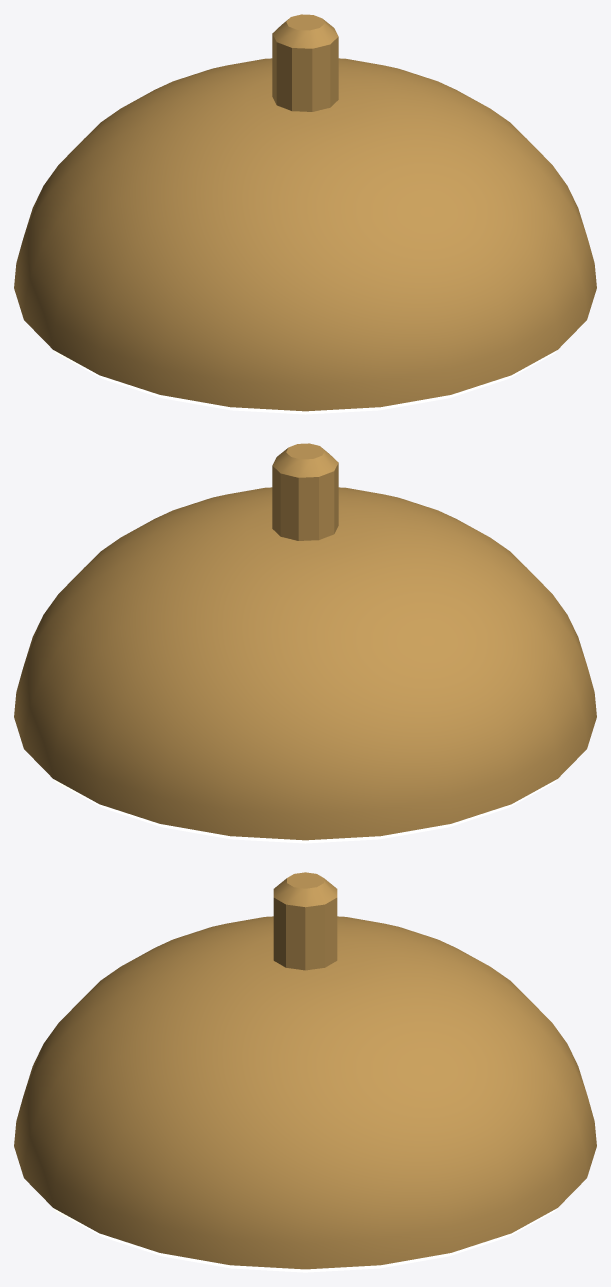
The model's file is dome_brass.glb.
3 renders of one model, top to bottom at view 1: azimuth 30°, elevation 25°; view 2: azimuth 150°, elevation 25°; view 3: azimuth 270°, elevation 25°, orthographic.
Parts seen in each view (by area): view 1: dome_brass; view 2: dome_brass; view 3: dome_brass.
Boxes of the visible parts, <box> form: dome_brass: <box>14,14,596,414</box>; dome_brass: <box>14,443,596,843</box>; dome_brass: <box>14,872,596,1272</box>.
Bounding box in the file's own units: 0.42 × 0.2152 × 0.42.
